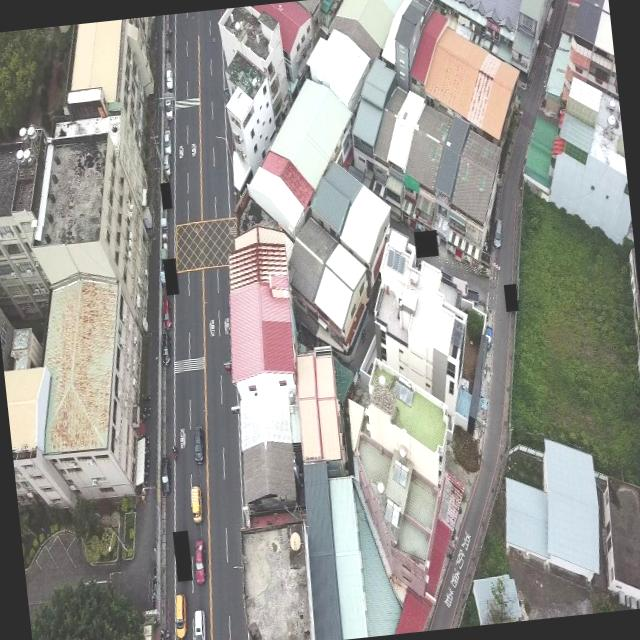bike: (170, 442, 178, 460), (164, 27, 174, 37), (162, 46, 172, 56)
car: (188, 535, 212, 587), (169, 592, 189, 640), (187, 482, 206, 524), (187, 606, 210, 640), (158, 456, 172, 498), (160, 294, 174, 332), (160, 332, 174, 369), (192, 426, 205, 464), (162, 127, 174, 154), (163, 96, 174, 122), (162, 153, 172, 178), (164, 68, 174, 90)
